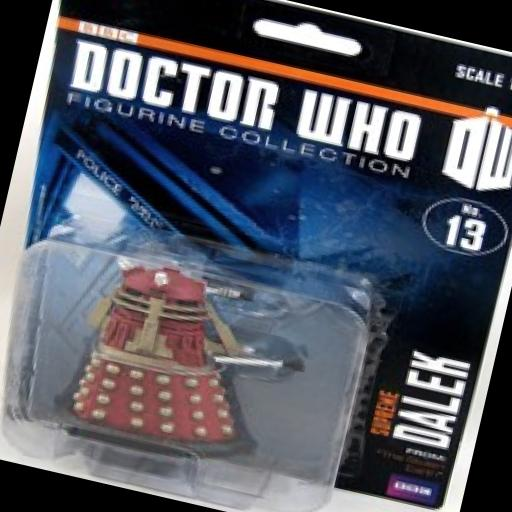dalek: (43, 236, 320, 491)
